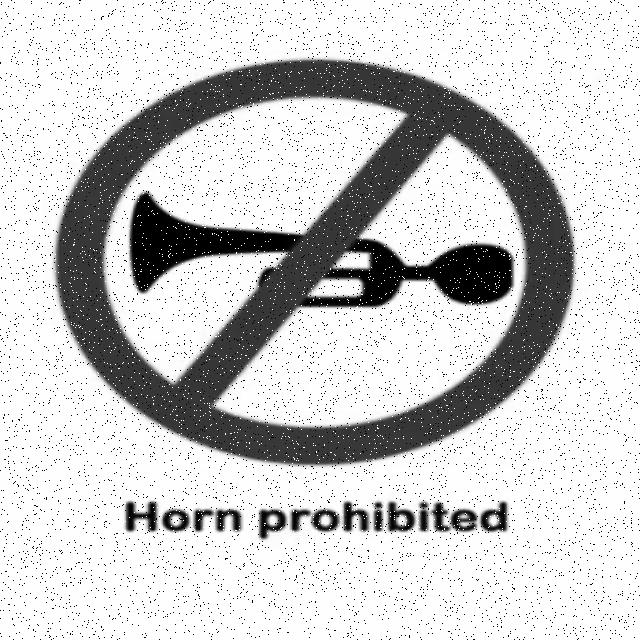No_Horn: (55, 58, 578, 466)
